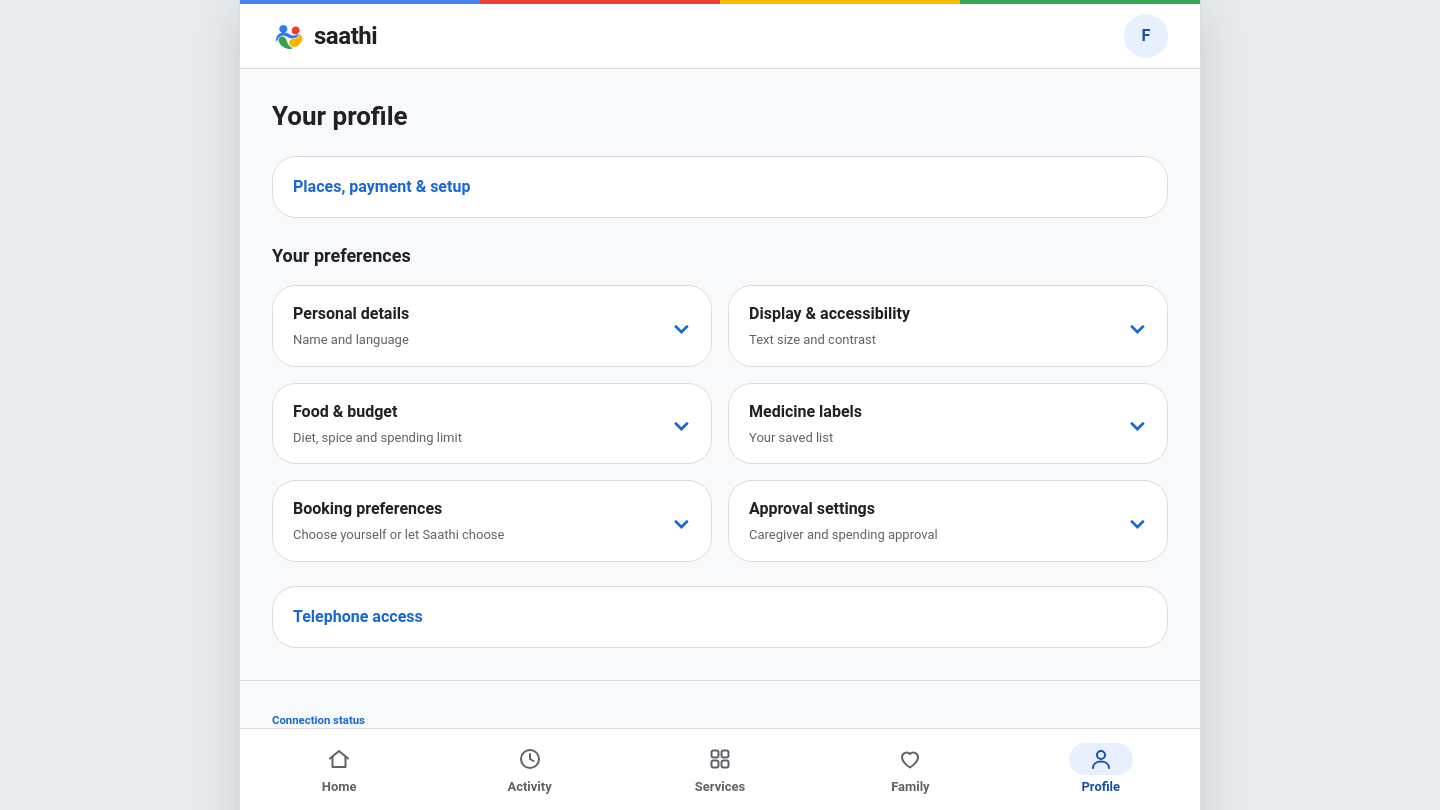
Test: Profile starts with categories and preserves drafts while moving between them
Expected: the field labelled "Your name" is not shown
Expected: the button "Save preferences" is not shown
Step 1. Click the button "Personal details Name and language ⌄" → (351, 314), box [273,286,711,366]
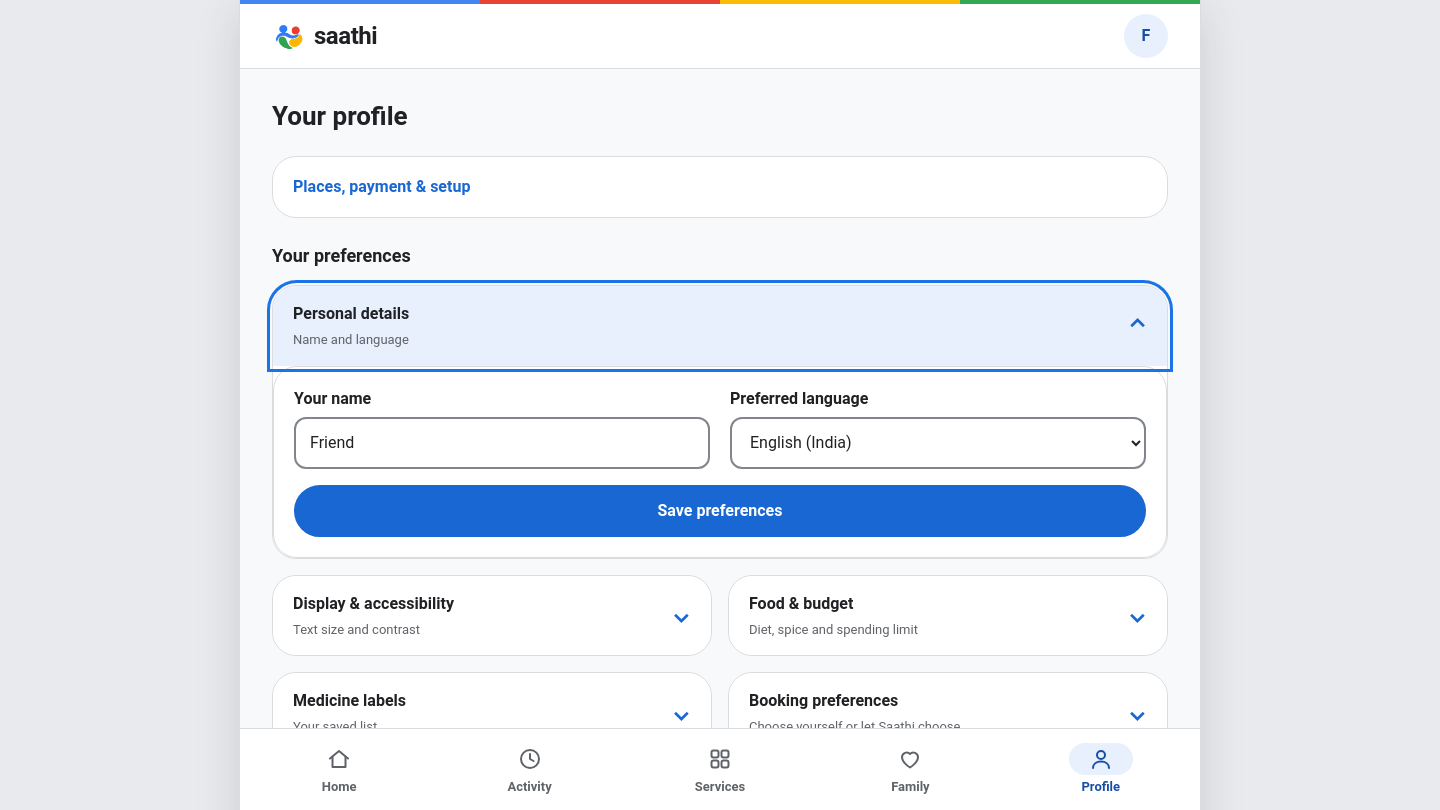
Step 2. Replace the text in the field labelled "Your name" with "Draft name" → (502, 443), box [294,417,710,469]
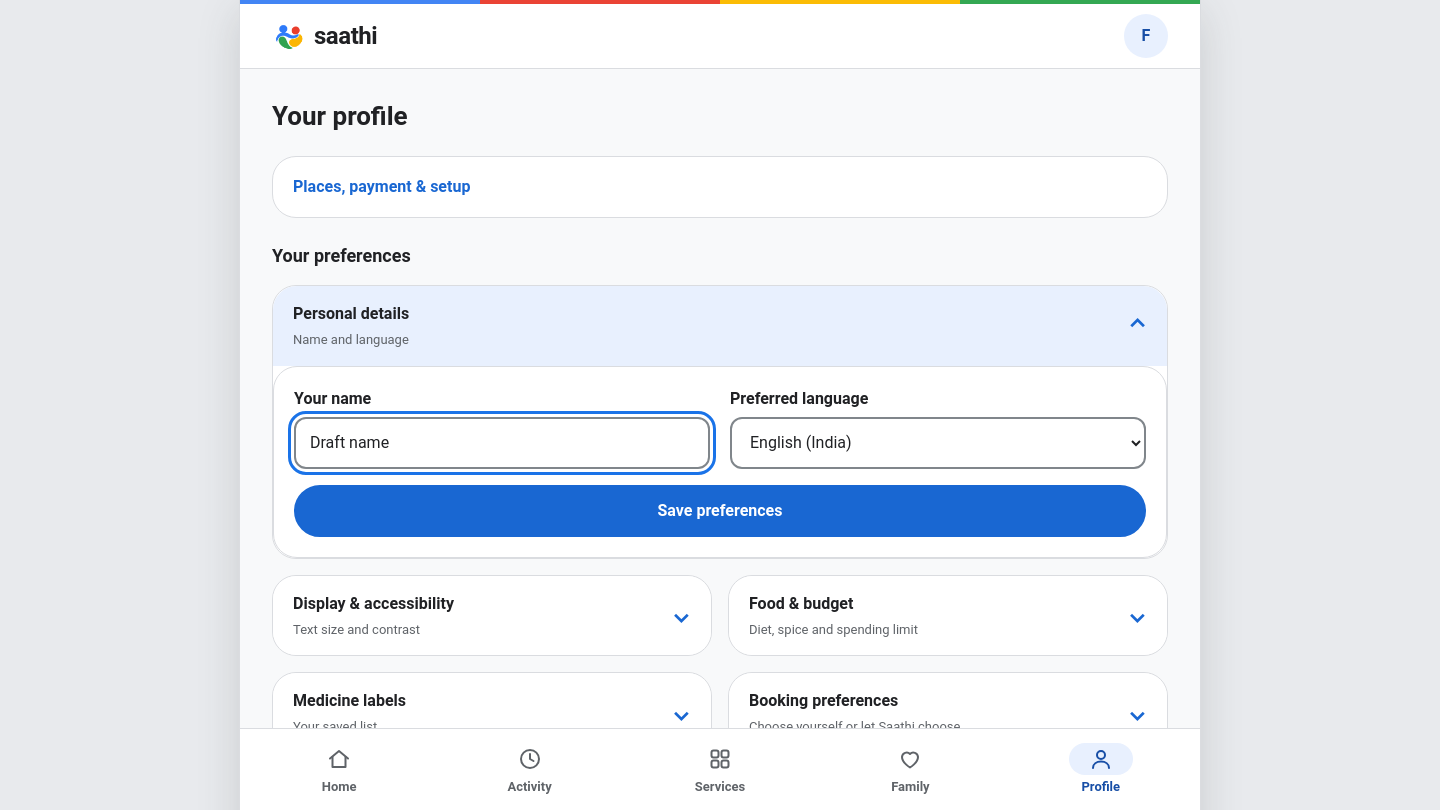
Expected: the number field labelled "Default budget (₹)" is not shown
Expected: the button "Personal details Name and language ⌄" is expanded, [273,286,1167,366]
Step 3. Click the button "Food & budget Diet, spice and spending limit ⌄" → (801, 603), box [729,576,1167,655]
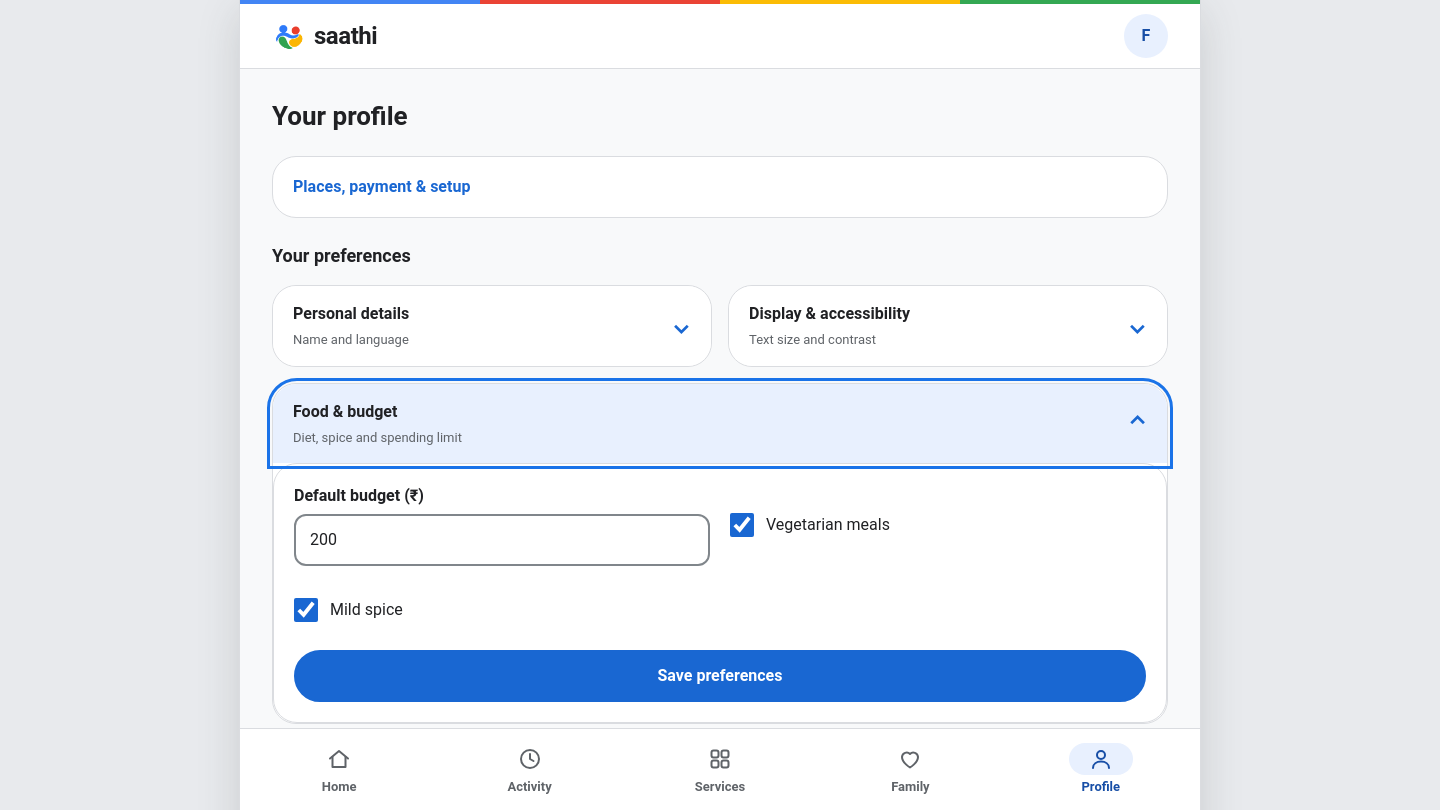
Expected: the number field labelled "Default budget (₹)" is shown, [294,514,710,566]
Expected: the label "Your name" is gone
Expected: the button "Personal details Name and language ⌄" is collapsed
Step 4. Click the button "Personal details Name and language ⌄" → (351, 314), box [273,286,711,366]
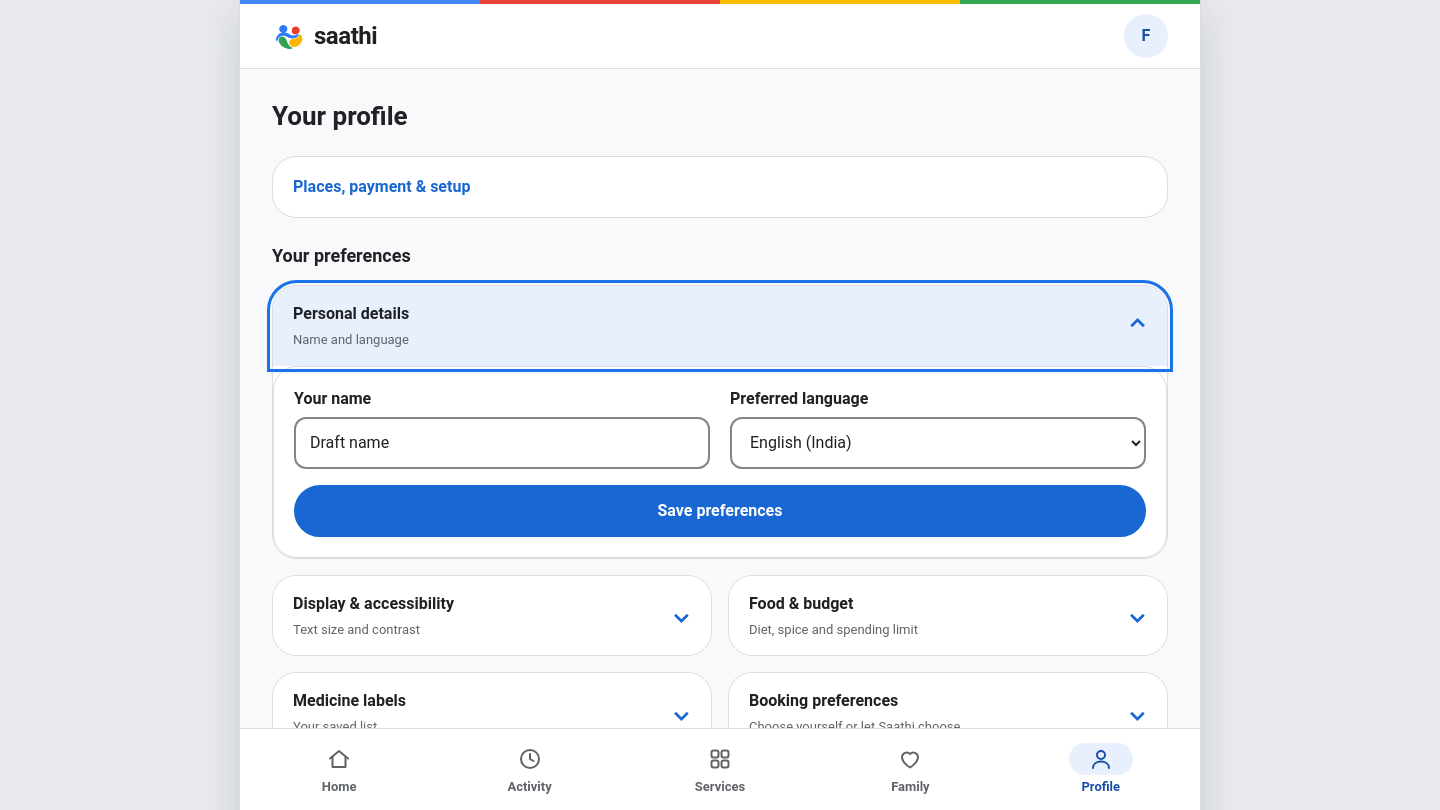
Expected: the field labelled "Your name" holds "Draft name", [294,417,710,469]
Step 5. Click the button "Personal details Name and language ⌄" → (351, 314), box [273,286,1167,366]
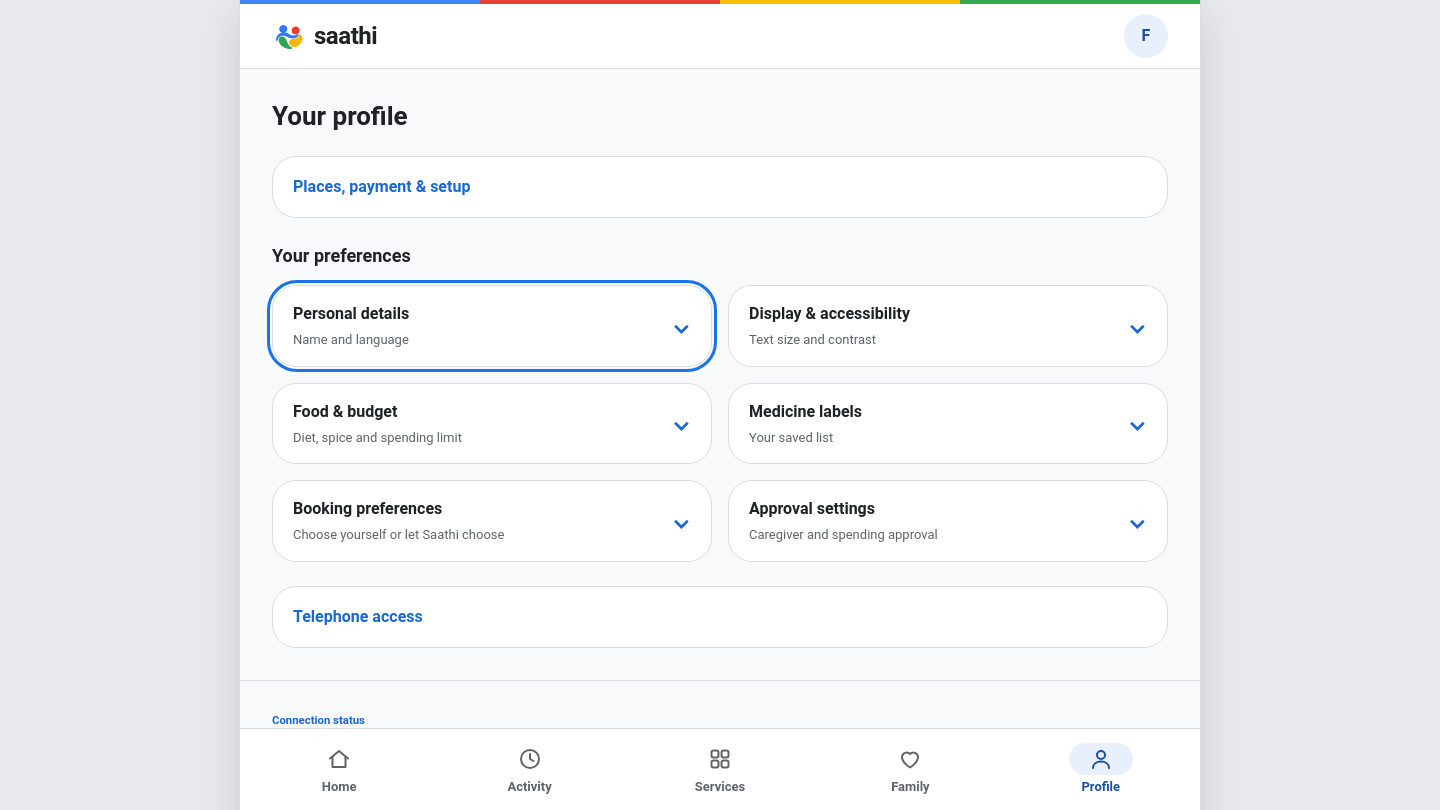
Expected: the button "Personal details Name and language ⌄" is collapsed, [273,286,711,366]
Expected: the label "Your name" is gone
